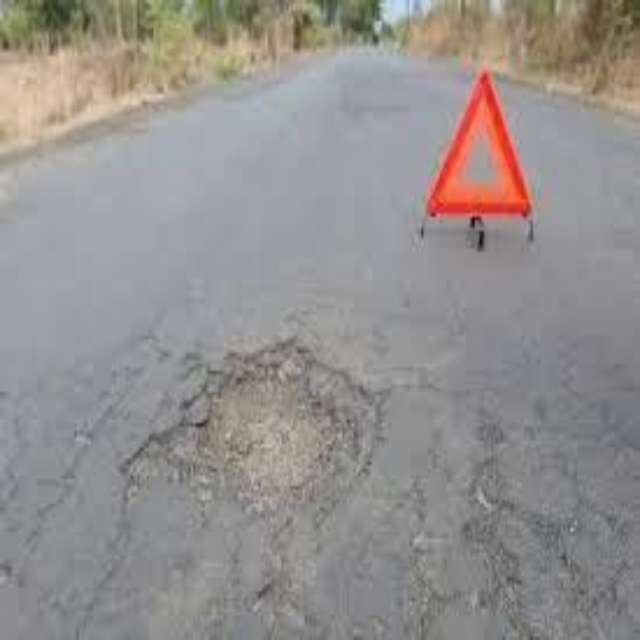pothole: (144, 343, 375, 514)
